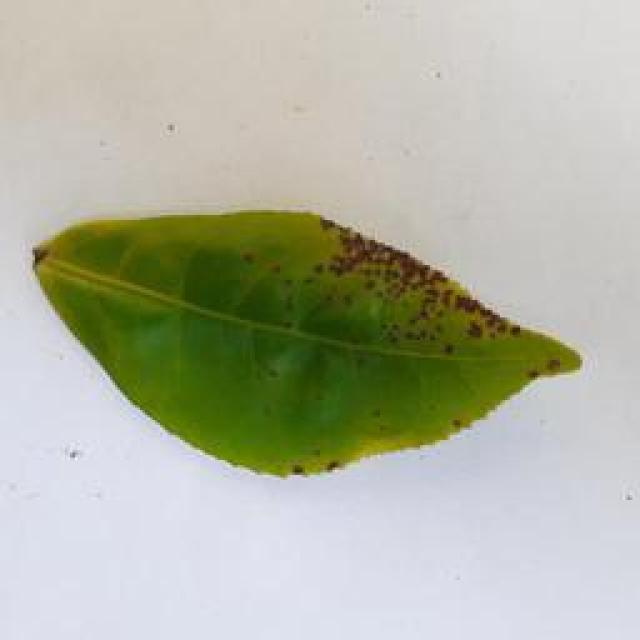Helopeltis: (19, 188, 589, 491)
